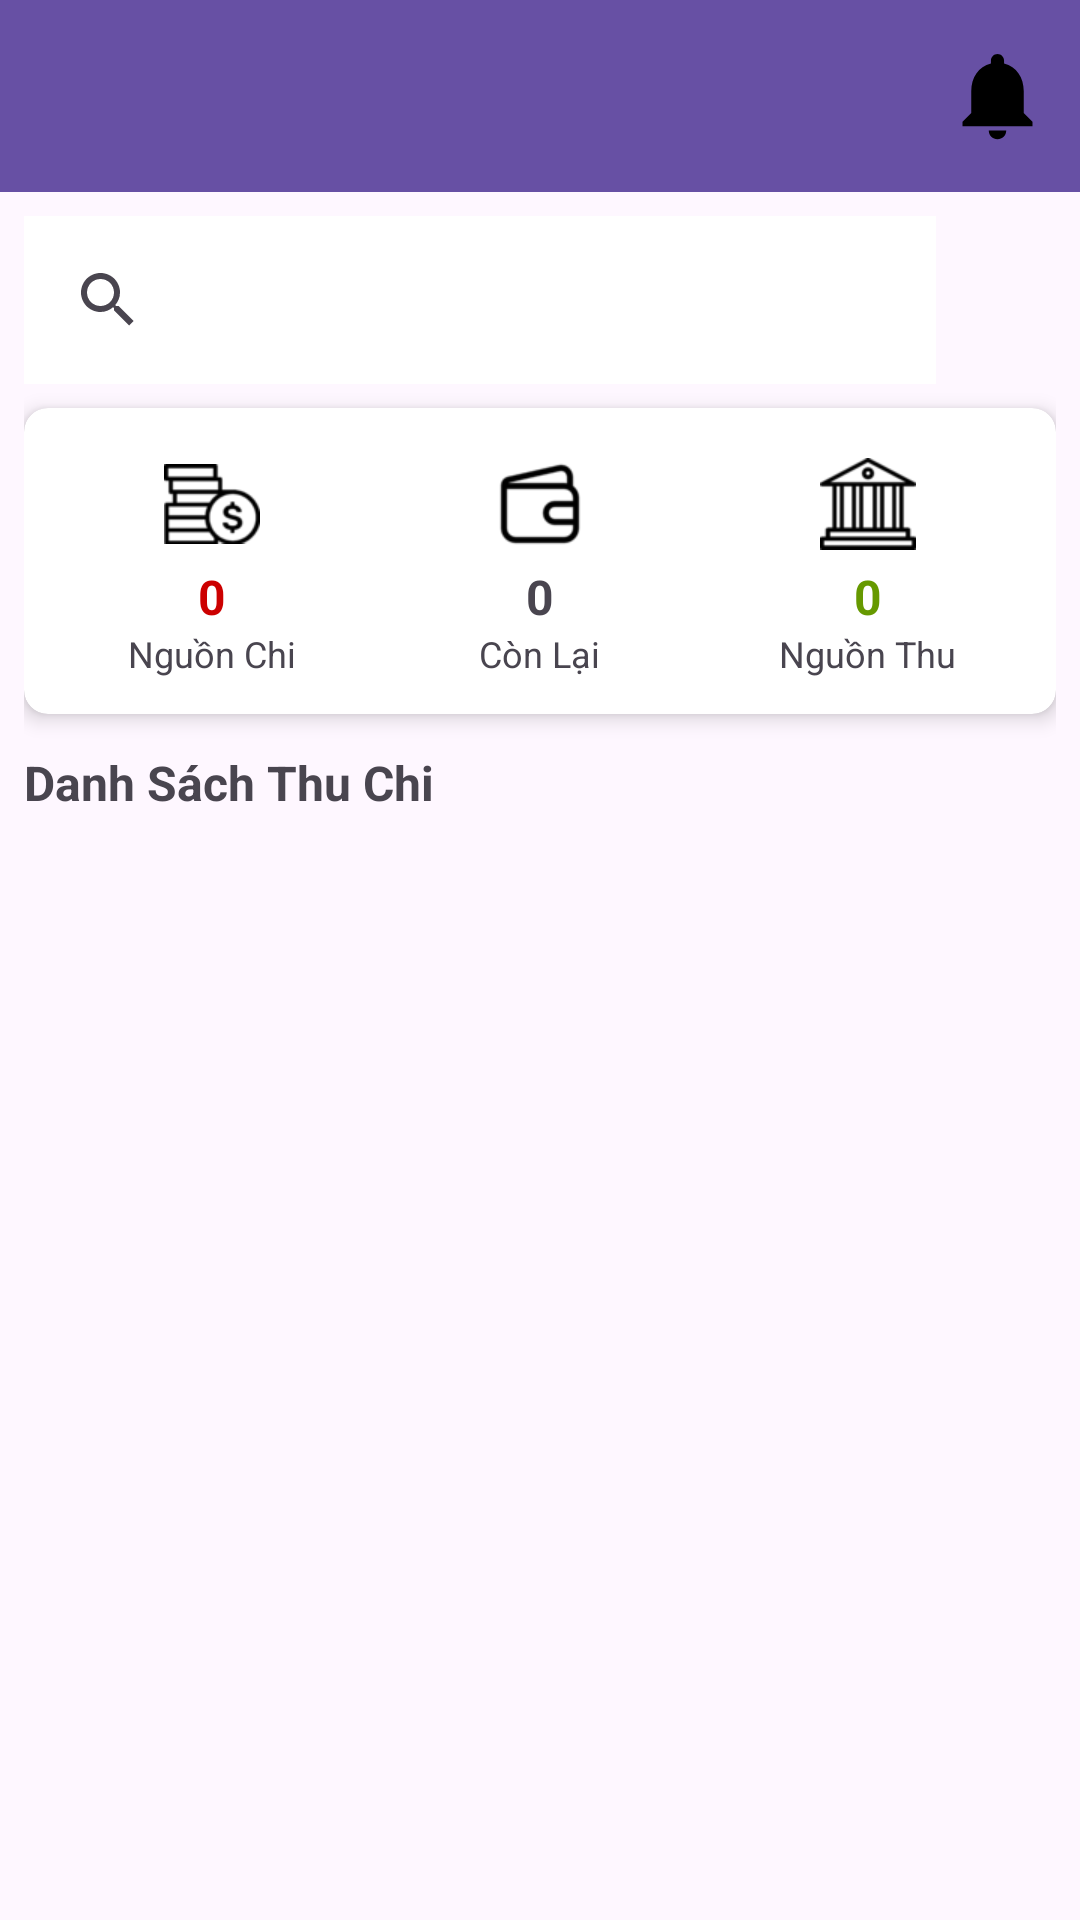

Named icons in this screenshot (1080*1920) and their bounding boxes, box(x1, y1, x2, y2):
icbank: box(820, 458, 916, 550)
iccoin: box(164, 464, 260, 544)
icwallet: box(500, 464, 580, 544)
